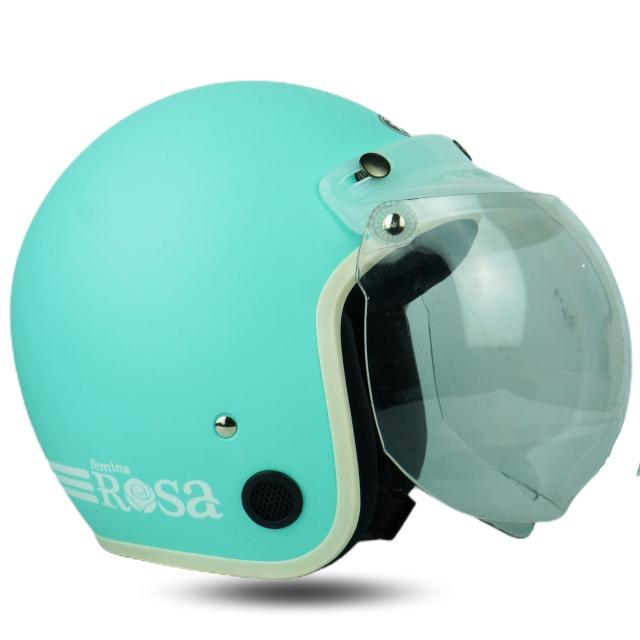Helm: (5, 74, 636, 590)
